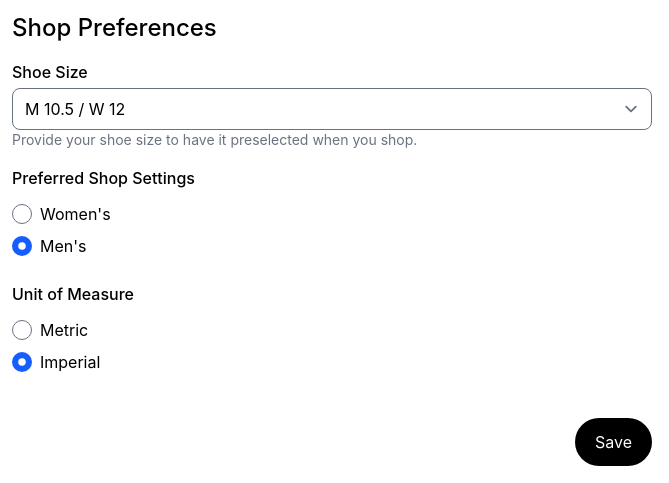
Test: checks Metric and unchecks Imperial when Metric is selected
Step 1. Click the radio button labelled "Metric" → (22, 330), box [12,320,32,340]
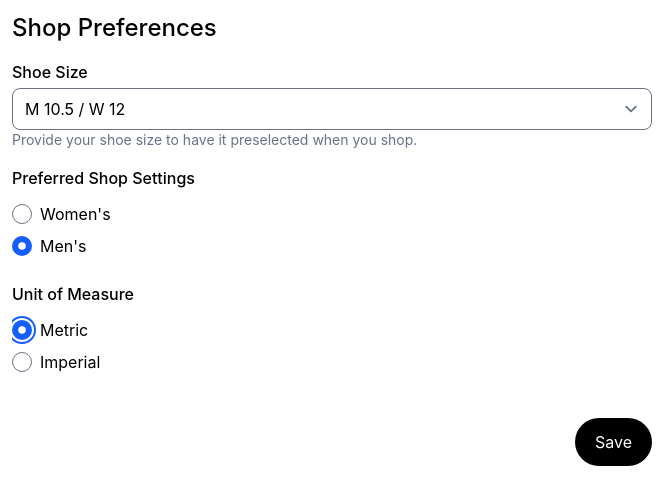
Result: the radio button labelled "Metric" is checked at [12,320,32,340]
Result: the radio button labelled "Imperial" is not checked at [12,352,32,372]
